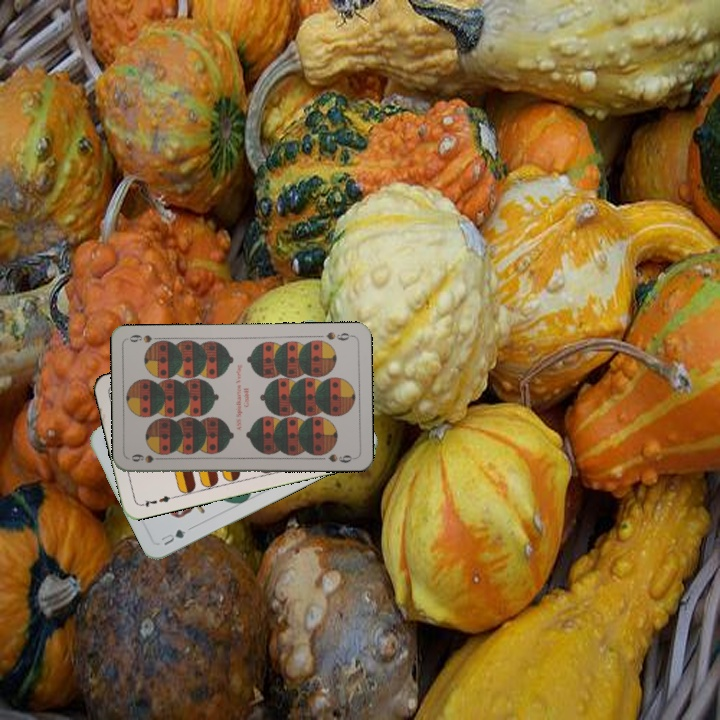E7: (137, 491, 177, 510)
GU: (157, 525, 188, 548)
S9: (127, 450, 168, 466), (322, 328, 355, 343)
